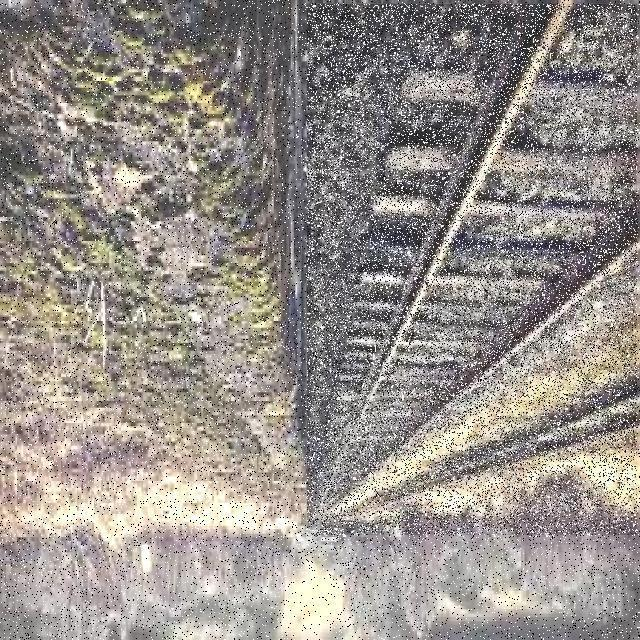rail: (309, 5, 638, 536)
